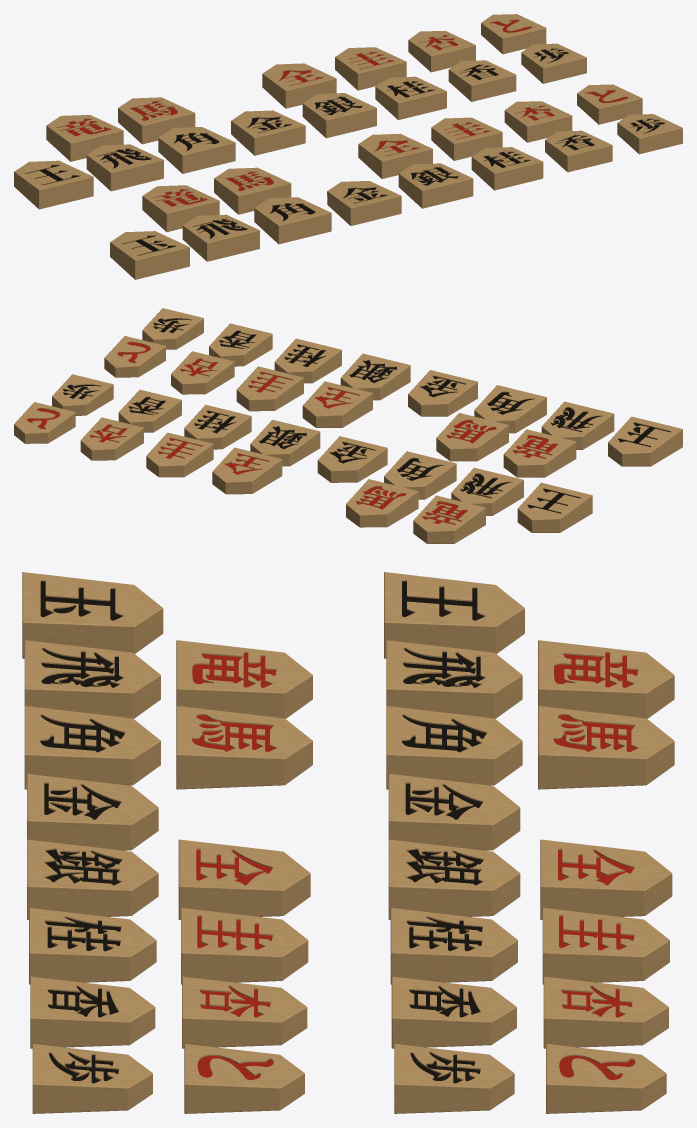
The model's file is hori.glb.
The picture shows the model from 3 angles, top to bottom: view 1: azimuth 30°, elevation 25°; view 2: azimuth 150°, elevation 25°; view 3: azimuth 270°, elevation 25°; orthographic projection. The views are drawn at different scales.
Parts seen in each view (by area): view 1: Carved boxwood 王, Carved boxwood 玉, Carved boxwood 角.001, Carved boxwood 角, Carved boxwood 飛, Carved boxwood 飛.001, Carved boxwood 金.001, Carved boxwood 金, Carved boxwood 銀, Carved boxwood 銀.001, Carved boxwood 馬.001, Carved boxwood 竜.001 (+16 smaller); view 2: Carved boxwood 王, Carved boxwood 玉, Carved boxwood 竜, Carved boxwood 馬, Carved boxwood 馬.001, Carved boxwood 竜.001, Carved boxwood 全.001, Carved boxwood 全, Carved boxwood 金.001, Carved boxwood 金, Carved boxwood 圭.001, Carved boxwood 圭 (+26 smaller); view 3: Carved boxwood 馬, Carved boxwood 馬.001, Carved boxwood 王, Carved boxwood 玉, Carved boxwood 角, Carved boxwood 角.001, Carved boxwood 全, Carved boxwood 全.001, Carved boxwood 銀.001, Carved boxwood 飛, Carved boxwood 飛.001, Carved boxwood 金.001 (+42 smaller).
Part boxes in pixels (box(x1,y1,x2,y2)): Carved boxwood 王: box(14, 160, 93, 209); Carved boxwood 玉: box(110, 231, 189, 279); Carved boxwood 角.001: box(158, 127, 235, 173); Carved boxwood 角: box(254, 197, 331, 244); Carved boxwood 飛: box(182, 214, 259, 261); Carved boxwood 飛.001: box(86, 144, 163, 191); Carved boxwood 金.001: box(231, 110, 305, 155); Carved boxwood 金: box(327, 181, 401, 225); Carved boxwood 銀: box(398, 163, 473, 208); Carved boxwood 銀.001: box(302, 93, 376, 138); Carved boxwood 馬.001: box(118, 97, 195, 144); Carved boxwood 竜.001: box(46, 115, 123, 161); Carved boxwood 王: box(517, 482, 592, 532); Carved boxwood 玉: box(608, 416, 682, 466); Carved boxwood 竜: box(503, 429, 576, 477); Carved boxwood 馬: box(436, 413, 508, 461); Carved boxwood 馬.001: box(346, 479, 418, 527); Carved boxwood 竜.001: box(413, 495, 485, 543); Carved boxwood 全.001: box(212, 447, 282, 494); Carved boxwood 全: box(302, 381, 372, 427); Carved boxwood 金.001: box(317, 436, 387, 482); Carved boxwood 金: box(408, 370, 477, 416); Carved boxwood 圭.001: box(146, 432, 213, 477); Carved boxwood 圭: box(236, 366, 303, 411); Carved boxwood 馬: box(176, 706, 312, 789); Carved boxwood 馬.001: box(538, 706, 674, 789); Carved boxwood 王: box(384, 572, 524, 658); Carved boxwood 玉: box(22, 572, 163, 658); Carved boxwood 角: box(24, 706, 160, 789); Carved boxwood 角.001: box(386, 706, 522, 789); Carved boxwood 全: box(178, 839, 310, 919); Carved boxwood 全.001: box(540, 839, 672, 919); Carved boxwood 銀.001: box(388, 839, 520, 919); Carved boxwood 飛: box(24, 640, 160, 718); Carved boxwood 飛.001: box(386, 640, 522, 718); Carved boxwood 金.001: box(388, 774, 520, 850).
Bounding box in the file's own units: 0.3307 × 0.0113 × 0.1803.
Materials: 4 (2 with a texture image).
